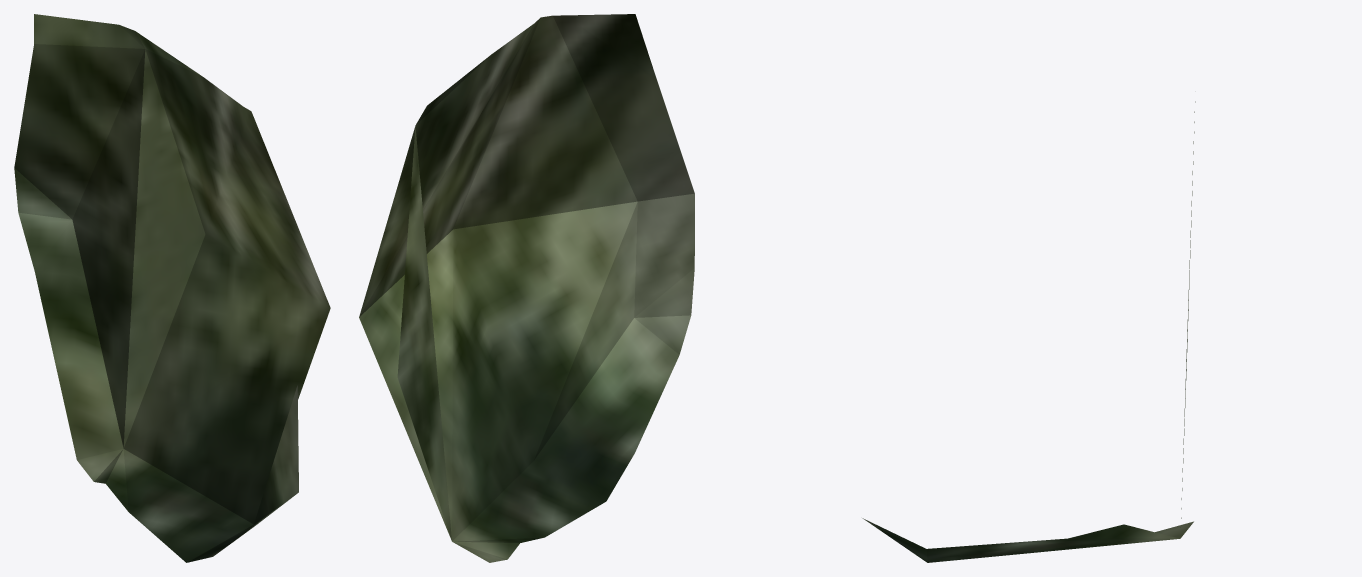
3 views of the same model, side by side, from view 1: azimuth 30°, elevation 25°; view 2: azimuth 150°, elevation 25°; view 3: azimuth 270°, elevation 25° (orthographic). The views are drawn at different scales.
Bounding box in the file's own units: 0.4724 × 1.37 × 1.45.
1 material, 1 textured.
